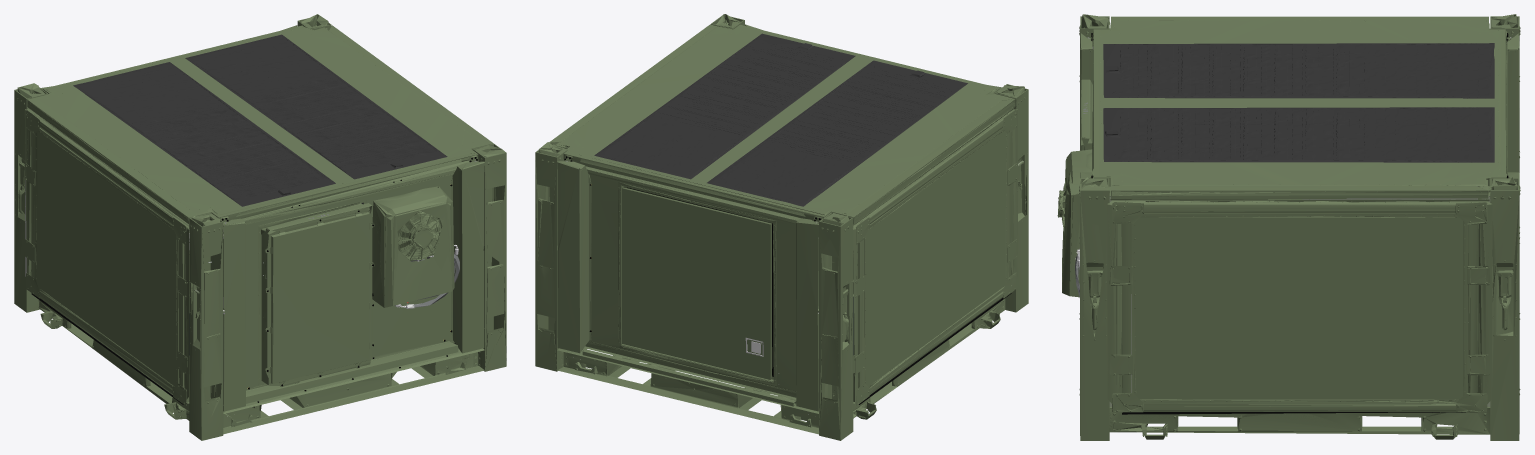
Rendered from trecc-stowed.glb.
3 views of the same model, side by side, from view 1: azimuth 30°, elevation 25°; view 2: azimuth 150°, elevation 25°; view 3: azimuth 270°, elevation 25° (orthographic). The views are drawn at different scales.
Visible parts, largest first — view 1: Solid2_222; view 2: Solid2_222; view 3: Solid2_222.
Boxes of the visible parts, box(x1,y1,x2,y2) form: Solid2_222: box(14, 14, 506, 440); Solid2_222: box(535, 14, 1028, 440); Solid2_222: box(1057, 14, 1520, 440).
Bounding box in the file's own units: 2.17 × 1.45 × 2.4.
